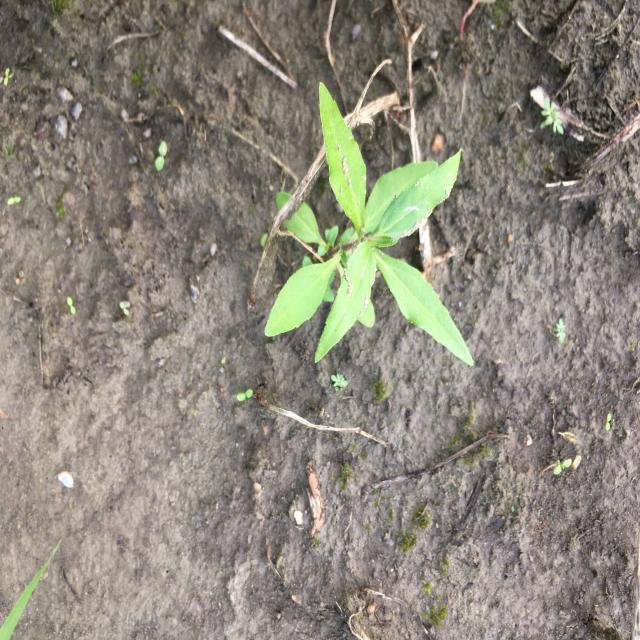Eclipta: (264, 81, 476, 368)
